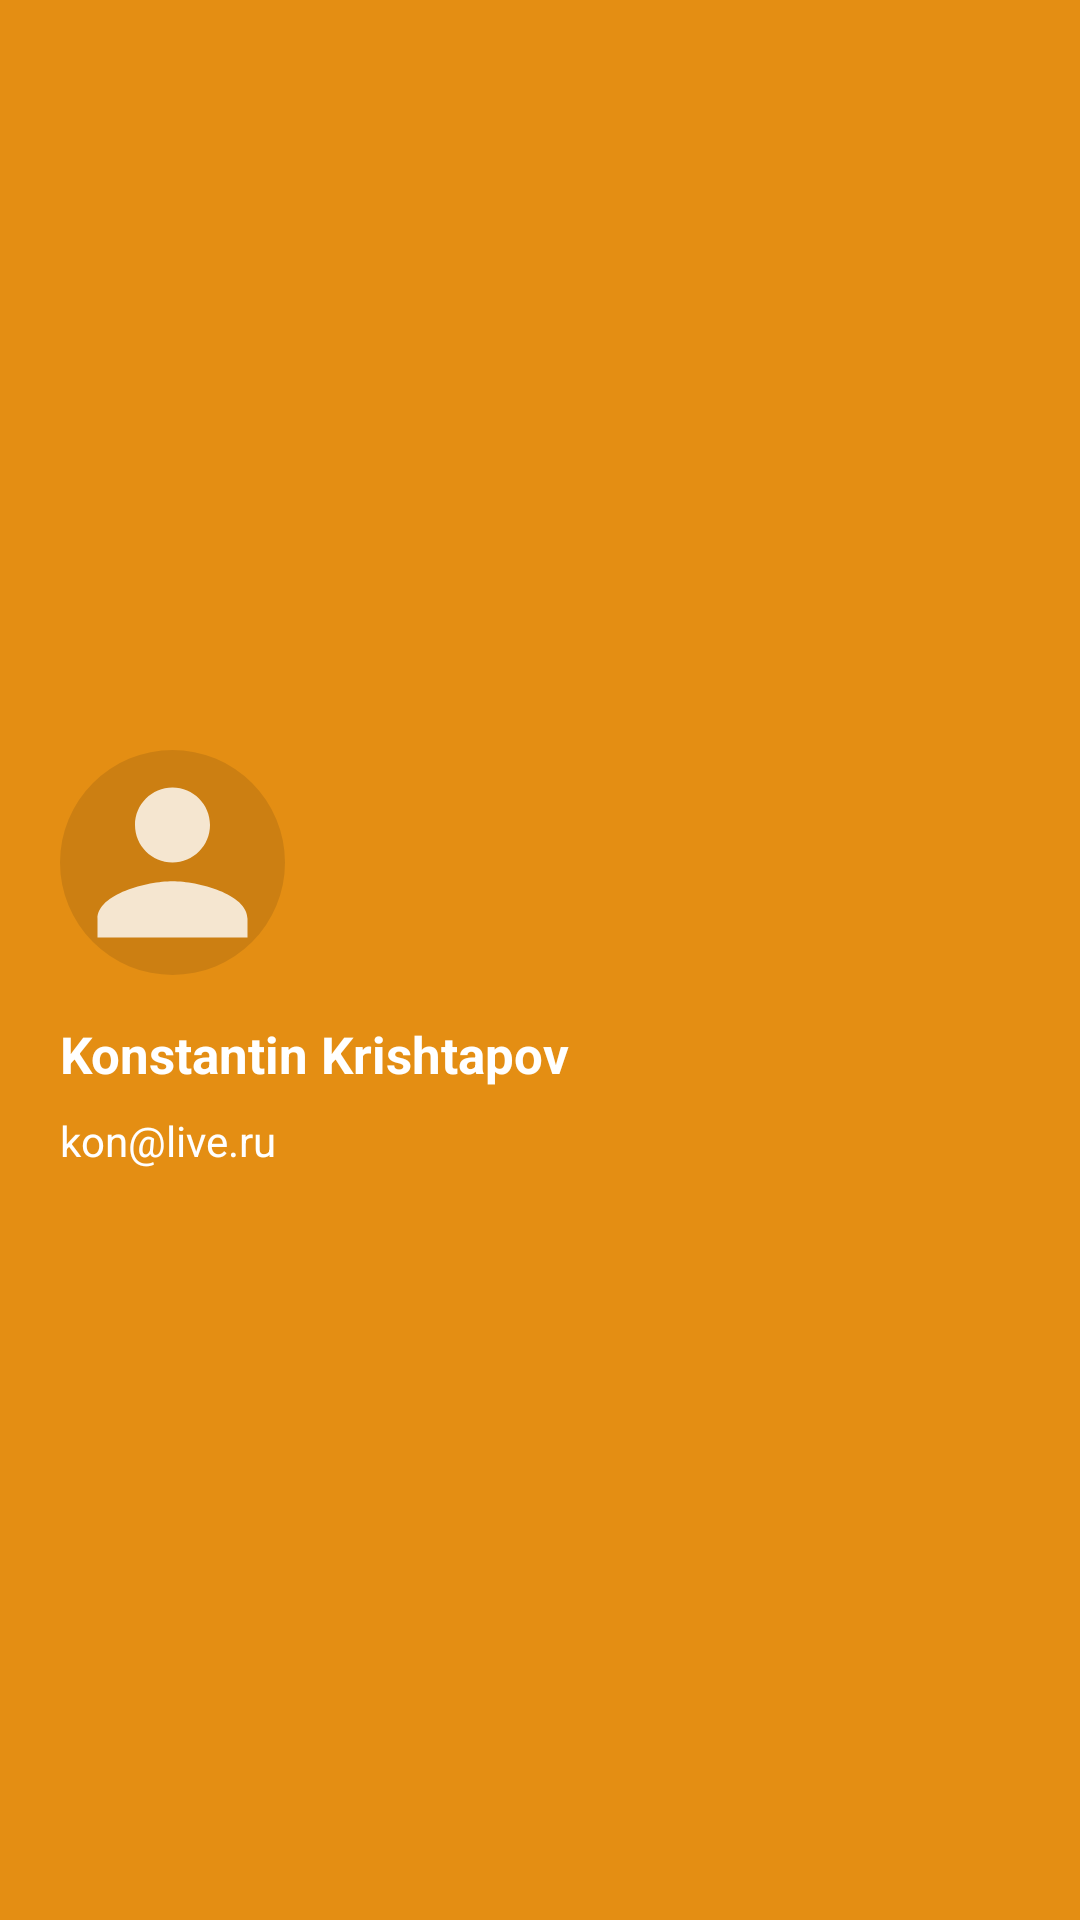

Screen size 1080 × 1920. Icon name, then its box in pixels as region(x1, y1, x2, y2):
person: region(97, 787, 248, 938)
